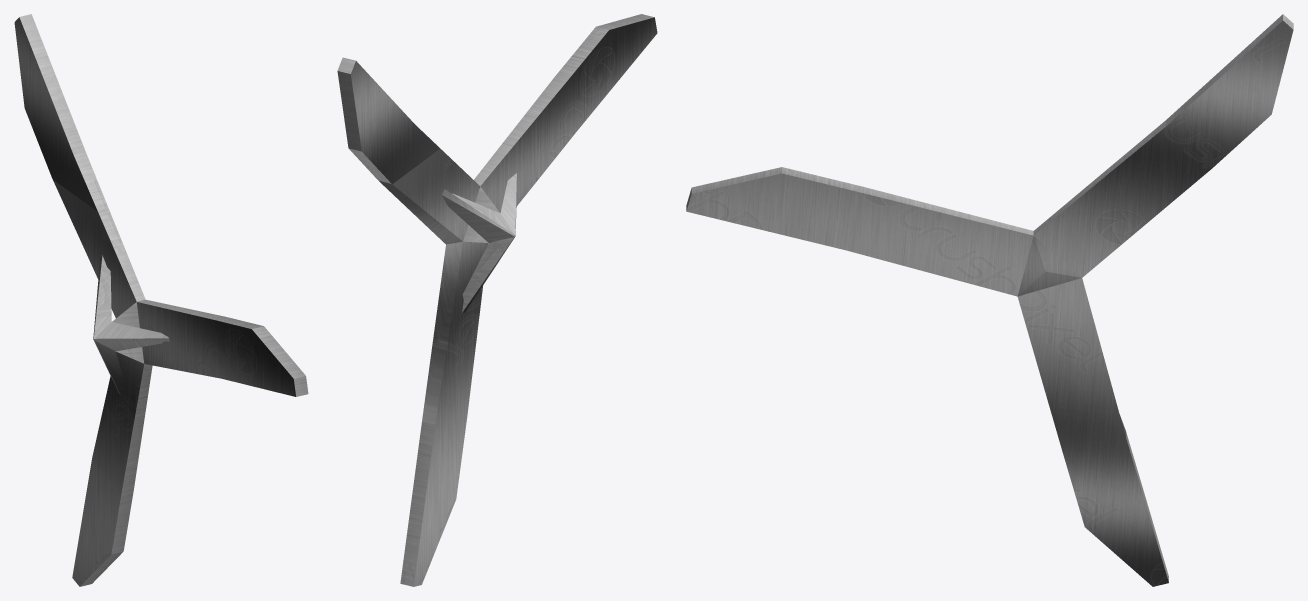
The model's file is helicecola.obj.
3 renders of one model, left to right at view 1: azimuth 30°, elevation 25°; view 2: azimuth 150°, elevation 25°; view 3: azimuth 270°, elevation 25°, orthographic. The views are drawn at different scales.
Parts seen in each view (by area): view 1: Cube.005_Cube.006; view 2: Cube.005_Cube.006; view 3: Cube.005_Cube.006.
Part boxes in pixels (box(x1,y1,x2,y2)): Cube.005_Cube.006: box(14, 14, 308, 586); Cube.005_Cube.006: box(337, 14, 657, 586); Cube.005_Cube.006: box(686, 14, 1293, 586).
Bounding box in the file's own units: 1.57 × 16.33 × 15.86.
Materials: 1 (1 with a texture image).
